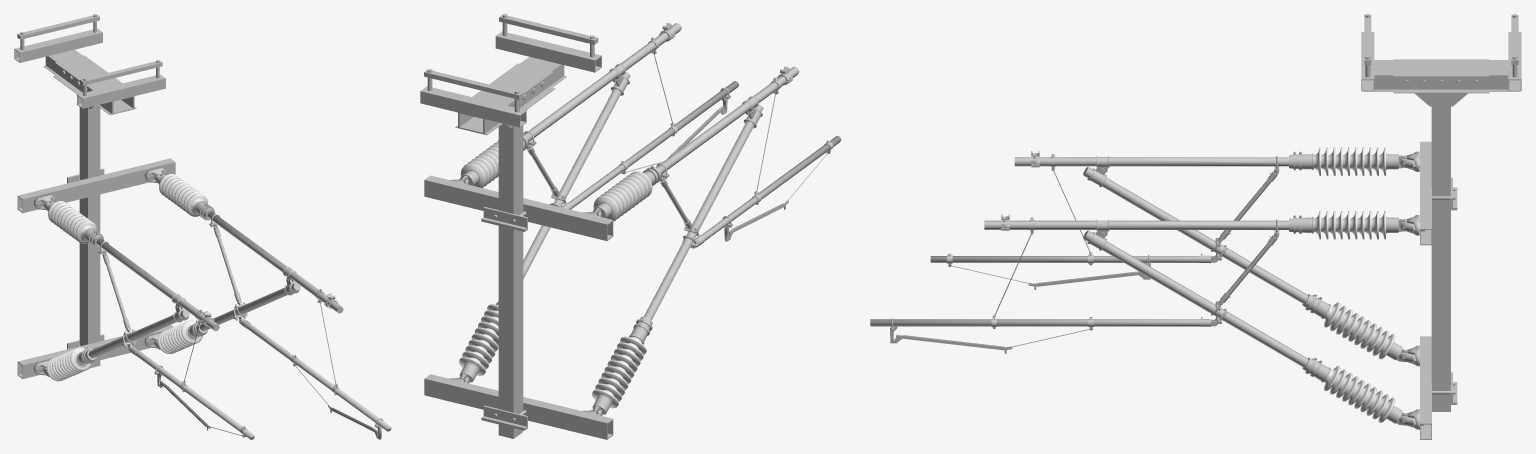
Rendered from gantry_double_1.obj.
3 views of the same model, side by side, from view 1: azimuth 30°, elevation 25°; view 2: azimuth 150°, elevation 25°; view 3: azimuth 270°, elevation 25° (orthographic). The views are drawn at different scales.
Visible parts, largest first — view 1: 1.043, 立方体.369, 1.032, 立方体.182, 1.035, 1.040, 立方体.173, 立方体.175, 立方体.177, 立方体.168, 立方体.165, 立方体.176 (+4 smaller); view 2: 立方体.369, 1.032, 1.043, 立方体.177, 立方体.182, 1.035, 1.040, 立方体.175, 立方体.173, 立方体.168, 立方体.165, 立方体.176 (+6 smaller); view 3: 1.043, 1.032, 立方体.369, 1.040, 1.035, 立方体.168, 立方体.165, 立方体.182, 立方体.177, 1.042, 1.033, 立方体.166.
Boxes of the visible parts, <box> form: 1.043: <box>157,174,391,431</box>; 立方体.369: <box>79,106,100,368</box>; 1.032: <box>46,201,254,439</box>; 立方体.182: <box>17,158,175,212</box>; 1.035: <box>46,201,97,381</box>; 1.040: <box>157,174,208,353</box>; 立方体.173: <box>14,28,102,62</box>; 立方体.175: <box>77,74,165,108</box>; 立方体.177: <box>17,324,173,378</box>; 立方体.168: <box>48,49,122,90</box>; 立方体.165: <box>45,56,134,114</box>; 立方体.176: <box>80,60,162,85</box>; 立方体.369: <box>498,124,523,438</box>; 1.032: <box>592,66,841,415</box>; 1.043: <box>459,23,738,383</box>; 立方体.177: <box>424,374,613,439</box>; 立方体.182: <box>424,175,613,240</box>; 1.035: <box>592,171,652,408</box>; 1.040: <box>459,140,498,375</box>; 立方体.175: <box>495,31,601,72</box>; 立方体.173: <box>420,86,526,127</box>; 立方体.168: <box>472,56,561,105</box>; 立方体.165: <box>458,64,564,134</box>; 立方体.176: <box>499,14,598,44</box>; 1.043: <box>870,214,1406,424</box>; 1.032: <box>930,151,1406,361</box>; 立方体.369: <box>1431,93,1450,411</box>; 1.040: <box>1313,211,1395,422</box>; 1.035: <box>1313,147,1395,359</box>; 立方体.168: <box>1374,59,1508,76</box>; 立方体.165: <box>1374,76,1508,89</box>; 立方体.182: <box>1420,141,1431,245</box>; 立方体.177: <box>1420,336,1431,439</box>; 1.042: <box>890,317,1093,353</box>; 1.033: <box>947,253,1150,289</box>; 立方体.166: <box>1363,89,1518,93</box>.
Size of the model in its own units: 1.72 by 3.42 by 5.41.
